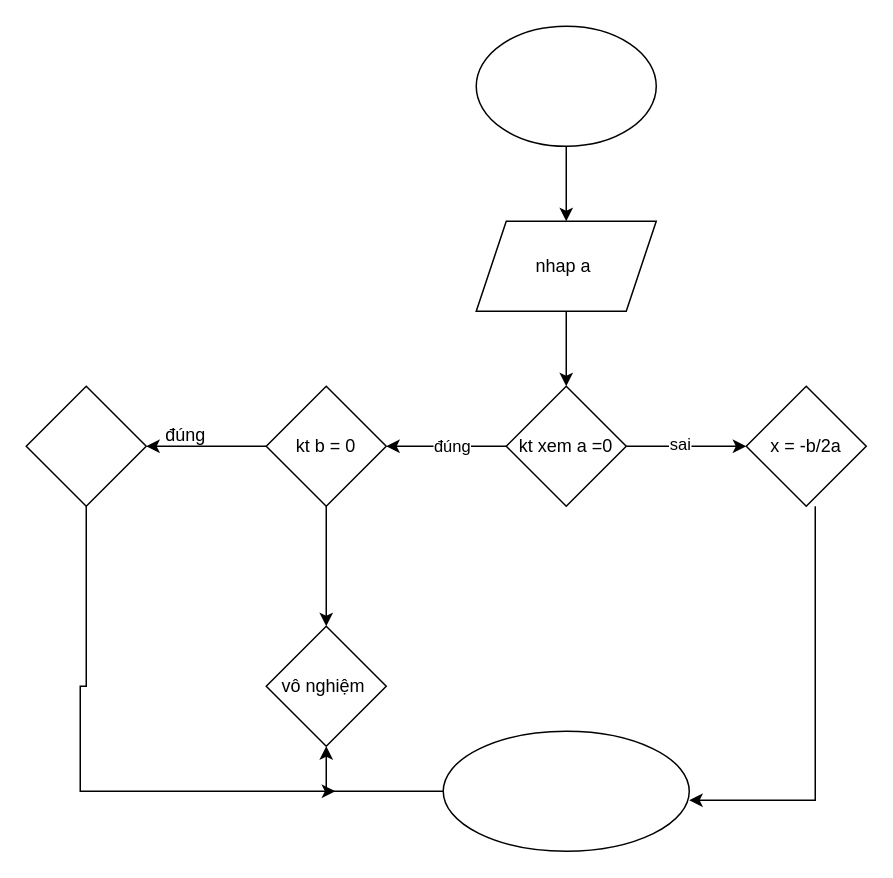
This 893x878 diagram has some shape labels left out. Here are the shapes that lost their labels. From the top down, the centre of each, then its label:
pixel 565 85: start
pixel 85 445: vô số nghiệm
